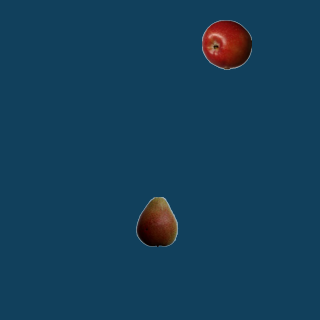Apple Braeburn: (201, 19, 251, 69)
Pear Forelle: (131, 196, 181, 246)
